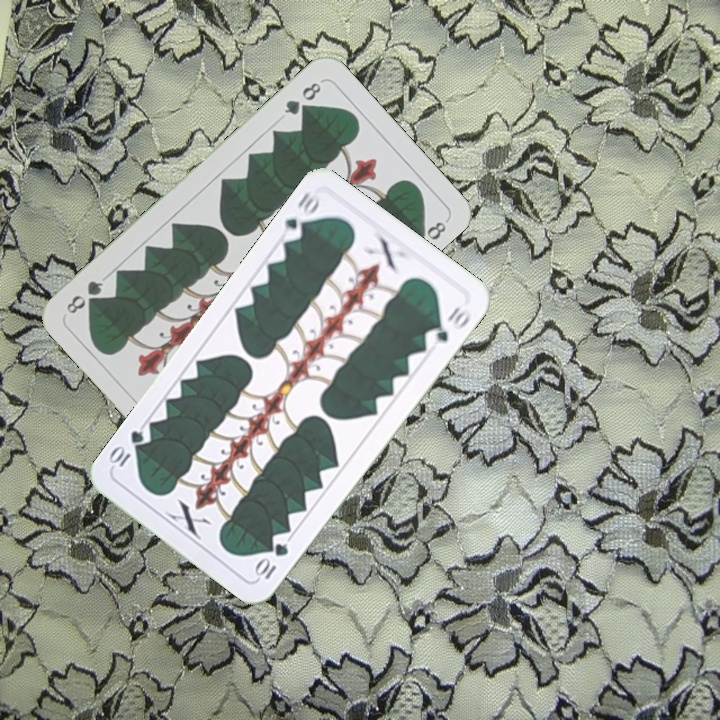G10: (277, 186, 323, 244), (251, 539, 292, 582)
G8: (280, 77, 325, 118)
